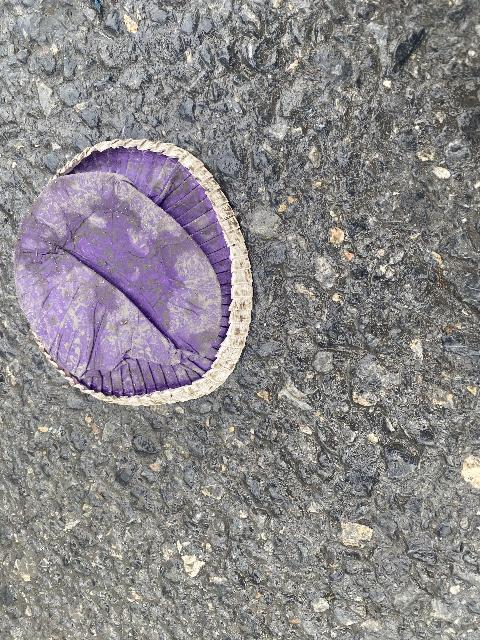Kagit: (3, 135, 276, 433)
